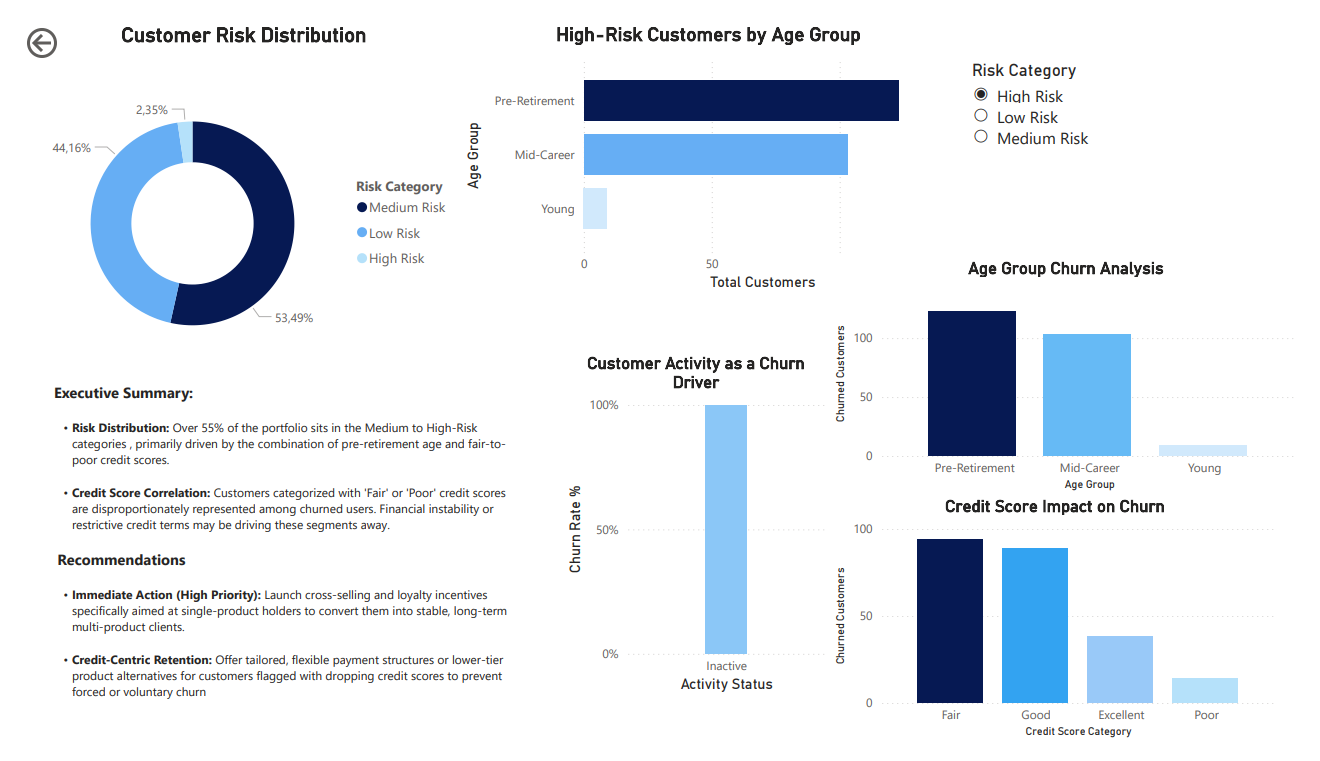

What the dashboard file says about the page in this screenshot:
{"tool":"powerbi","page":{"name":"Retention Risk Analysis","canvas":[1280,720],"ordinal":2},"visuals":[{"type":"donutChart","title":"Customer Risk Distribution","fields":{"Category":["gjensidige_dane.Risk Category"],"Y":["gjensidige_dane.Total Customers"]},"box":[1.7,0,440,378.3],"z":0},{"type":"actionButton","box":[0,0,100,40],"z":2000},{"type":"listSlicer","fields":{"Values":["gjensidige_dane.Risk Category"]},"box":[945,36.7,175,201.7],"z":3000},{"type":"clusteredBarChart","title":"High-Risk Customers by Age Group","fields":{"Category":["gjensidige_dane.Age Group"],"Y":["gjensidige_dane.Total Customers"]},"box":[438.3,0,496.7,271.7],"z":3500},{"type":"columnChart","title":"Customer Activity as a Churn Driver","fields":{"Y":["gjensidige_dane.Churn Rate %"],"Category":["gjensidige_dane.Activity Status"]},"box":[540,330,268.3,345],"z":4000},{"type":"columnChart","title":"Credit Score Impact on Churn","fields":{"Category":["gjensidige_dane.Credit Score Category"],"Y":["gjensidige_dane.Churned Customers"]},"box":[808.3,473.3,450,246.7],"z":5000},{"type":"columnChart","title":"Age Group Churn Analysis","fields":{"Category":["gjensidige_dane.Age Group"],"Y":["gjensidige_dane.Churned Customers"]},"box":[808.3,235,471.7,238.3],"z":6000},{"type":"textbox","box":[27.3,320,469.1,400],"z":7000}]}

Visuals, with their boxes in screenshot pixels (x1, y1, x2, y2), scaled from the page's 1280x720 canvas onto the 1320x761 screenshot:
"Customer Risk Distribution" donutChart: bbox=[2, 0, 456, 400]
actionButton: bbox=[0, 0, 103, 42]
listSlicer - gjensidige_dane.Risk Category: bbox=[975, 39, 1155, 252]
"High-Risk Customers by Age Group" clusteredBarChart: bbox=[452, 0, 964, 287]
"Customer Activity as a Churn Driver" columnChart: bbox=[557, 349, 834, 713]
"Credit Score Impact on Churn" columnChart: bbox=[834, 500, 1298, 760]
"Age Group Churn Analysis" columnChart: bbox=[834, 248, 1319, 500]
textbox: bbox=[28, 338, 512, 760]
